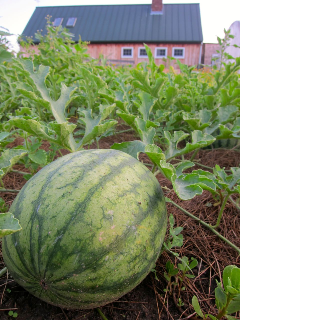dua_hau: (1, 145, 170, 313)
